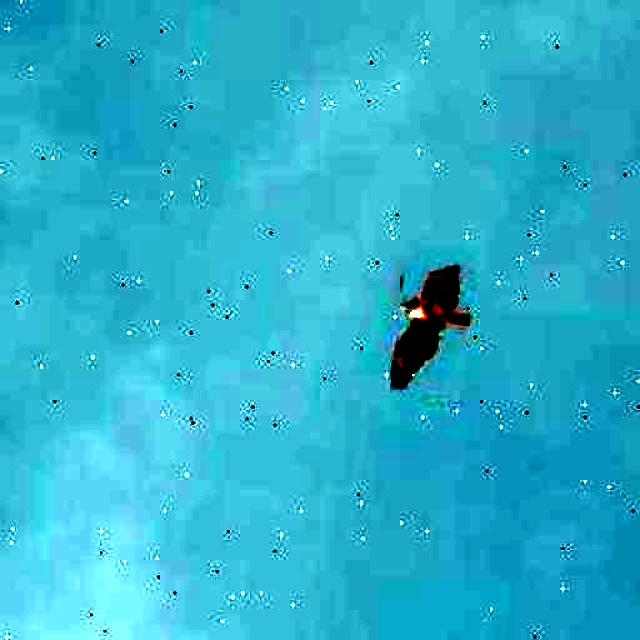airplane: (388, 259, 476, 399)
